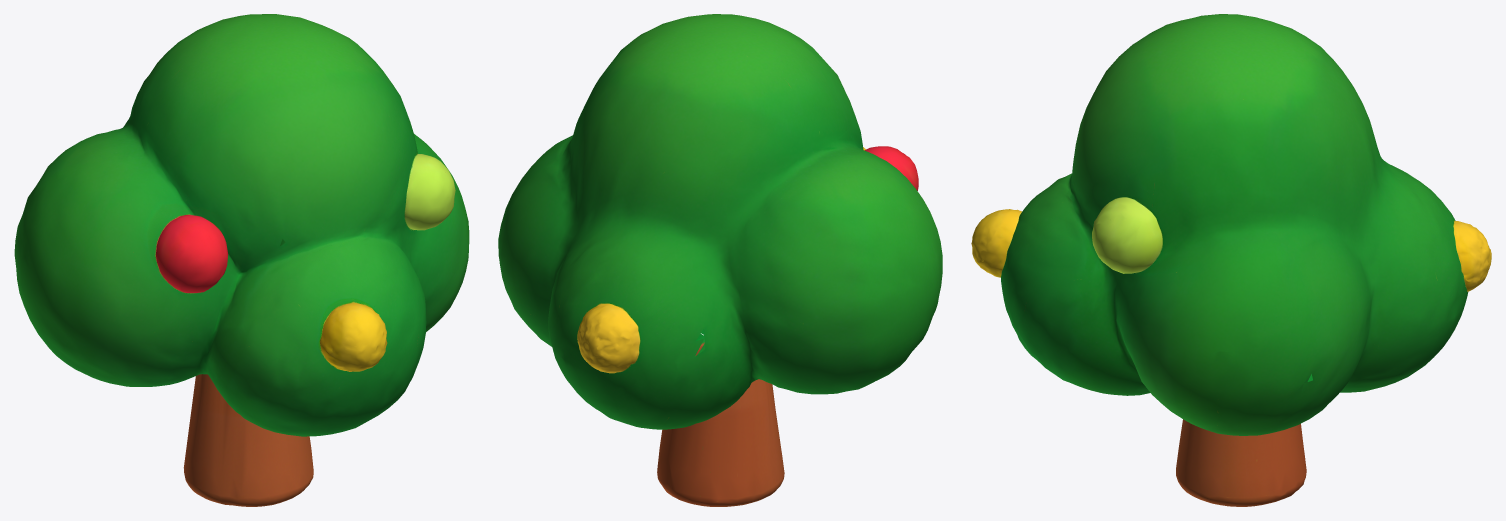
File: apple_tree.glb
3 views of the same model, side by side, from view 1: azimuth 30°, elevation 25°; view 2: azimuth 150°, elevation 25°; view 3: azimuth 270°, elevation 25° (orthographic). The views are drawn at different scales.
Size of the model in its own units: 0.8862 by 0.9253 by 0.9482.
Materials: 1 (1 with a texture image).
